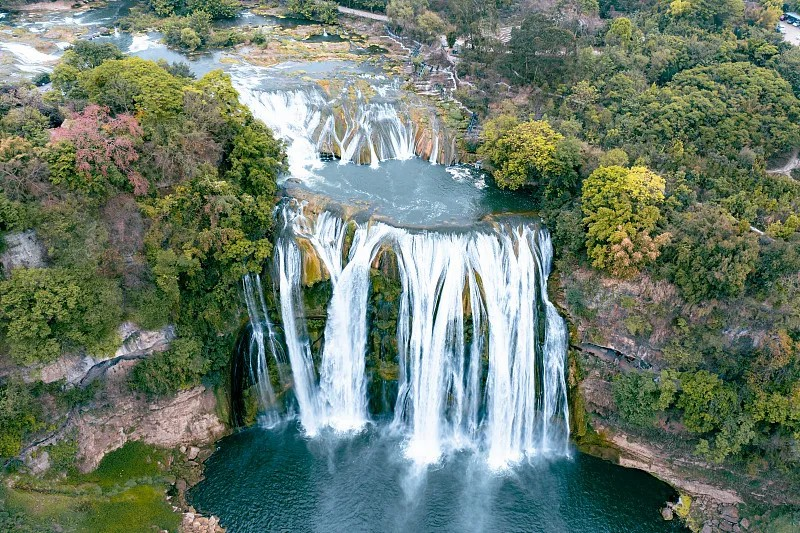Huangguoshu: (245, 92, 571, 464)
